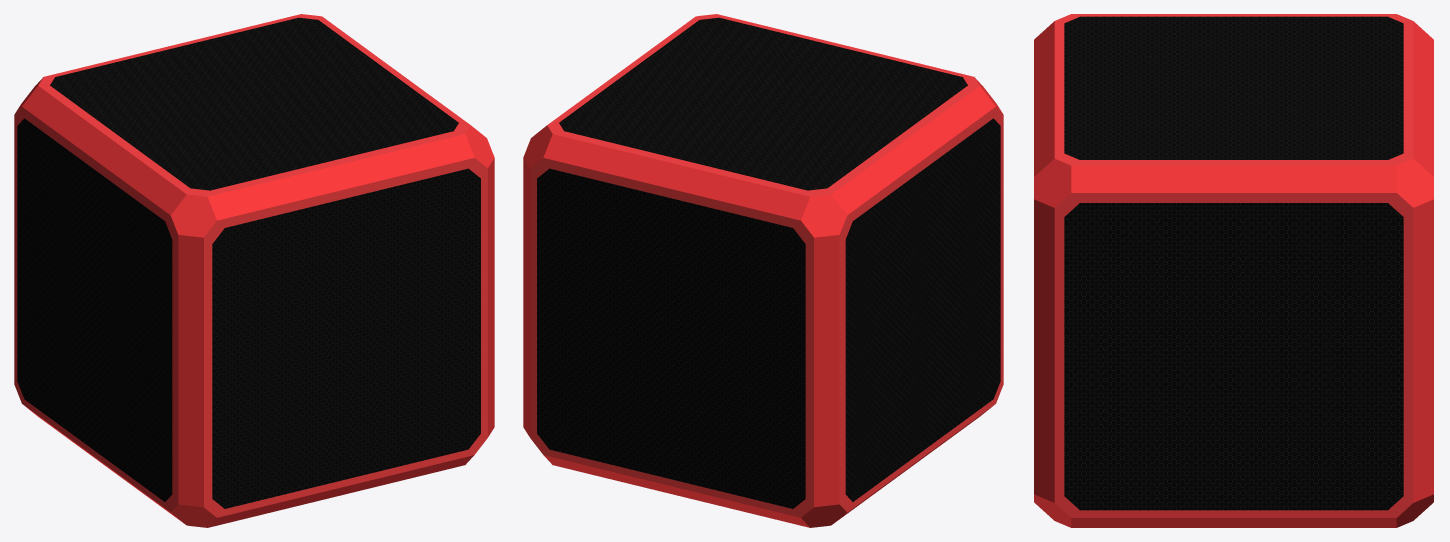
The model's file is Itr_Obj_Speaker4_05.FBX.
3 renders of one model, left to right at view 1: azimuth 30°, elevation 25°; view 2: azimuth 150°, elevation 25°; view 3: azimuth 270°, elevation 25°, orthographic. The views are drawn at different scales.
Parts seen in each view (by area): view 1: Itr_Obj_Speaker4_05; view 2: Itr_Obj_Speaker4_05; view 3: Itr_Obj_Speaker4_05.
Part boxes in pixels (bbox=[...]): Itr_Obj_Speaker4_05: bbox=[14, 14, 494, 527]; Itr_Obj_Speaker4_05: bbox=[523, 14, 1003, 527]; Itr_Obj_Speaker4_05: bbox=[1034, 14, 1433, 527].
Bounding box in the file's own units: 10.52 × 10.46 × 10.52.
